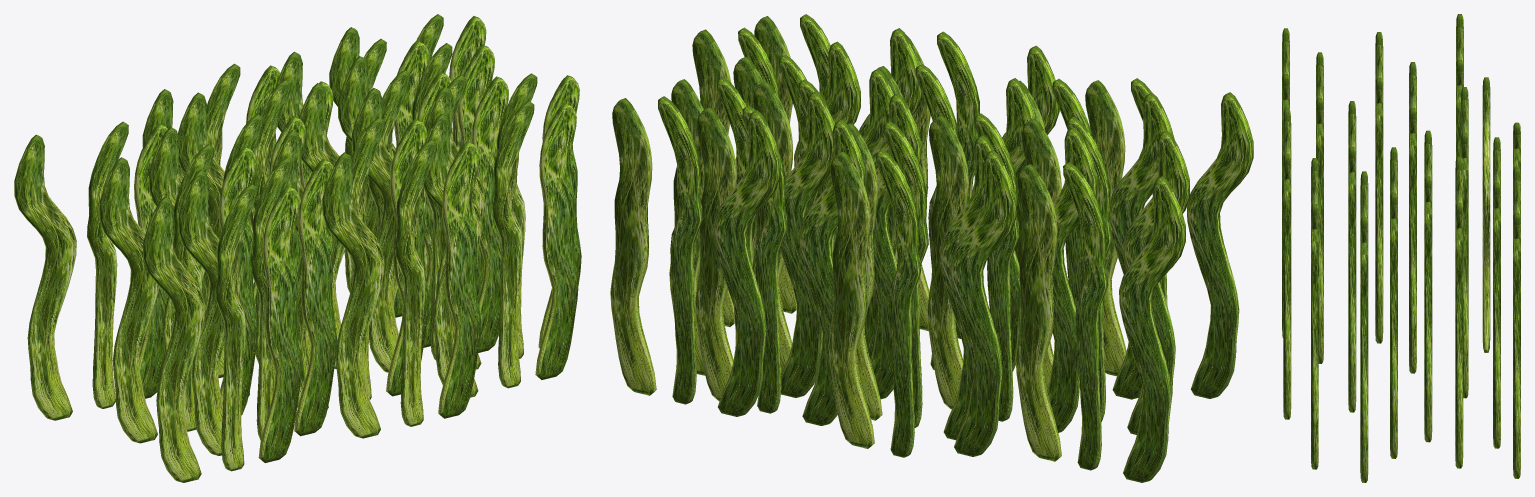
File: Seaweed_Group.fbx
The picture shows the model from 3 angles, left to right: view 1: azimuth 30°, elevation 25°; view 2: azimuth 150°, elevation 25°; view 3: azimuth 270°, elevation 25°; orthographic projection. The views are drawn at different scales.
Parts seen in each view (by area): view 1: Seaweed_Group; view 2: Seaweed_Group; view 3: Seaweed_Group.
Boxes of the visible parts, x1,y1,x2,y2 form: Seaweed_Group: [14, 14, 581, 482]; Seaweed_Group: [610, 14, 1253, 482]; Seaweed_Group: [1282, 14, 1520, 482].
Size of the model in its own units: 1.84 by 0.989 by 0.8177.
Materials: 1 (1 with a texture image).
